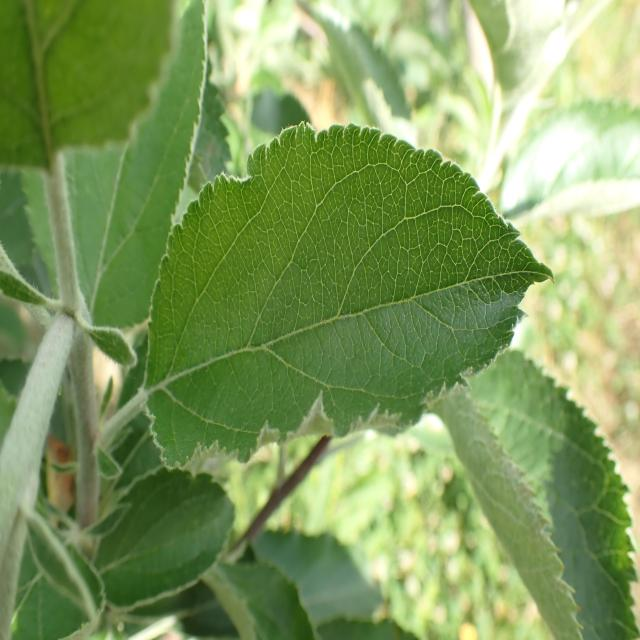healthy: (143, 120, 557, 467), (427, 349, 640, 640), (0, 0, 184, 171), (92, 466, 235, 608)
